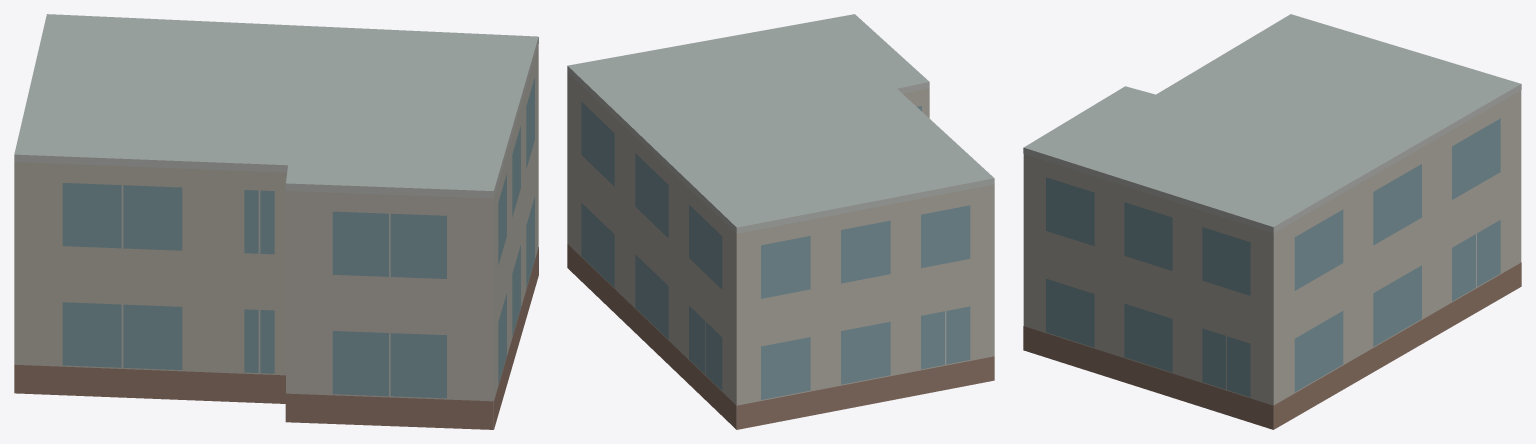
File: survey-upis-32500149.glb
3 views of the same model, side by side, from view 1: azimuth 30°, elevation 25°; view 2: azimuth 150°, elevation 25°; view 3: azimuth 270°, elevation 25° (orthographic). The views are drawn at different scales.
Parts seen in each view (by area): view 1: survey-upis-32500149.tmp; view 2: survey-upis-32500149.tmp; view 3: survey-upis-32500149.tmp.
Part boxes in pixels (x1,y1,x2,y2): survey-upis-32500149.tmp: (14,14,538,429); survey-upis-32500149.tmp: (567,14,994,429); survey-upis-32500149.tmp: (1023,14,1521,429).
Bounding box in the file's own units: 17.82 × 7.9 × 17.59.
